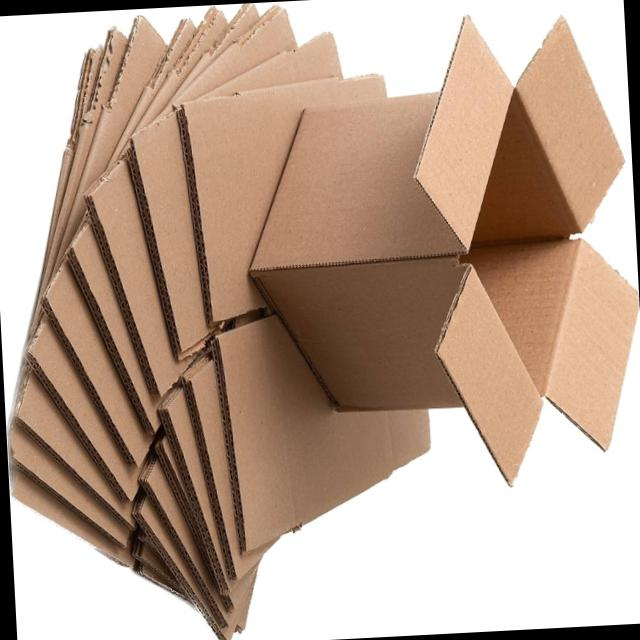cardboard_box: (237, 0, 639, 537)
